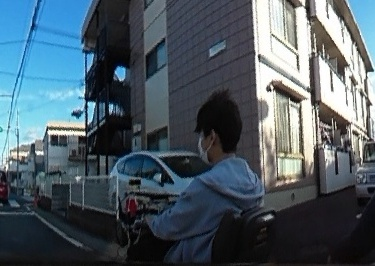person: (157, 92, 265, 260)
